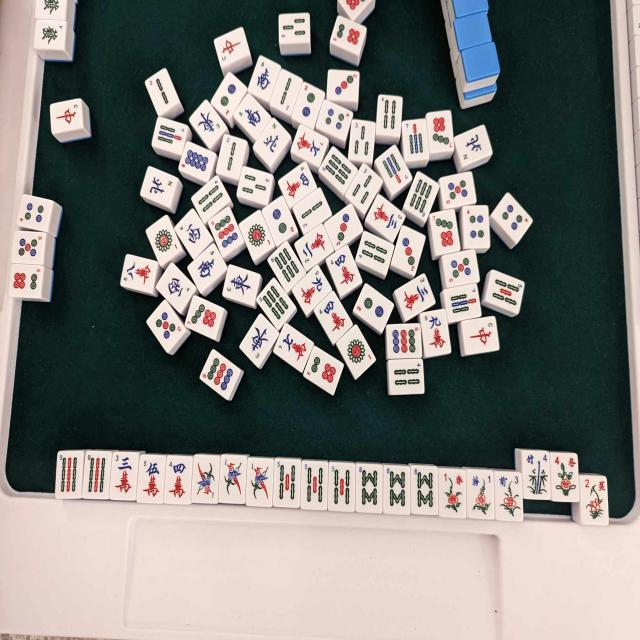bf1: (468, 472, 496, 518)
bf3: (494, 472, 522, 520)
bf4: (524, 452, 554, 502)
bs1: (438, 470, 464, 515)
bs2: (579, 476, 609, 522)
bs4: (552, 454, 580, 502)
hwe: (238, 315, 280, 369), (190, 99, 230, 148), (224, 264, 264, 306)
hwn: (254, 119, 294, 169)
hws: (232, 93, 272, 140), (251, 58, 283, 102)
hww: (173, 209, 213, 256)
sb1: (193, 456, 220, 502), (248, 460, 274, 506), (220, 458, 246, 503)
sb2: (290, 190, 331, 233), (215, 132, 248, 178), (272, 69, 303, 115)
sb3: (344, 165, 384, 212), (237, 167, 274, 206), (347, 120, 375, 162)
sb4: (192, 178, 233, 224)
sb5: (274, 461, 300, 507), (300, 464, 326, 510), (331, 464, 355, 509)
sb6: (318, 147, 358, 196), (256, 278, 297, 324), (268, 242, 306, 288), (406, 173, 440, 221)
sb7: (376, 147, 414, 196), (402, 120, 428, 162)
sb8: (354, 465, 382, 511), (381, 467, 408, 514), (412, 468, 438, 514)
sb9: (82, 454, 110, 499), (58, 452, 84, 497)
sc3: (110, 452, 136, 498)
sc4: (326, 248, 364, 296), (168, 458, 194, 502)
sc5: (138, 458, 164, 503)
sd1: (240, 212, 276, 260)
sd2: (264, 200, 300, 246), (212, 74, 246, 121), (293, 84, 325, 128)
sd3: (325, 204, 365, 249), (390, 227, 426, 274)
sd4: (317, 100, 354, 140)
sd8: (179, 143, 219, 184)
sd9: (208, 206, 245, 255)
